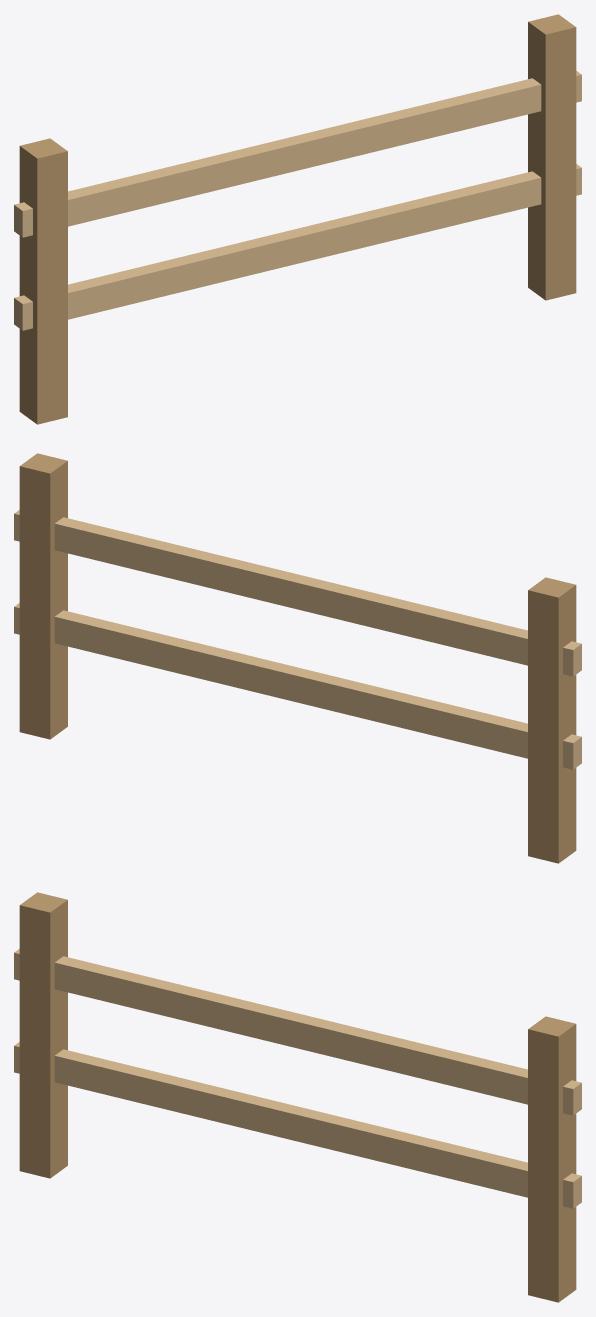
File: pagar.glb
3 renders of one model, top to bottom at view 1: azimuth 30°, elevation 25°; view 2: azimuth 150°, elevation 25°; view 3: azimuth 330°, elevation 25°, orthographic.
Size of the model in its own units: 2.2 by 1 by 0.12.
